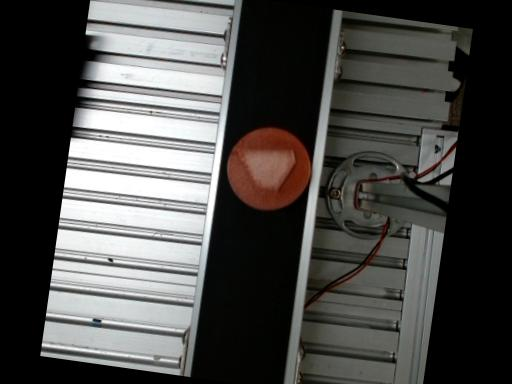Brown_Waper: (226, 127, 310, 210)
Not_Square: (234, 148, 296, 189)
